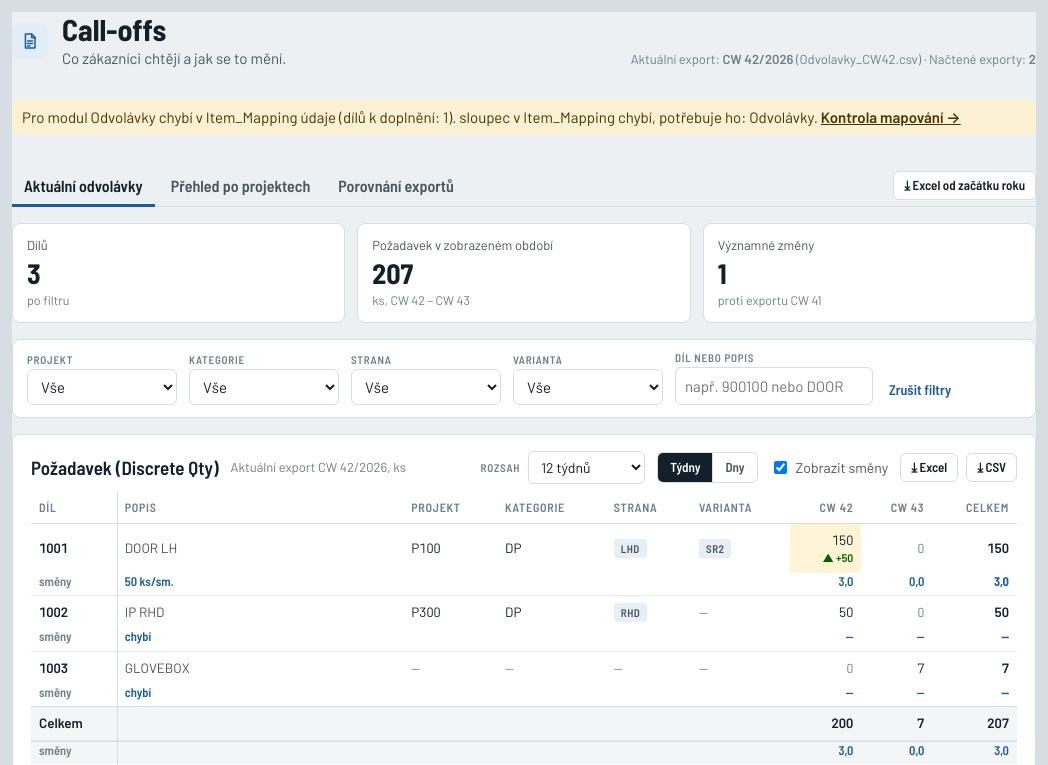
Test case: CallOffsPage › směny: řádek pod kusy (kusy ÷ výkon kategorie), bez výkonu pomlčka a upozornění; vypnutí skryje
The image size is (1048, 765).
What coordinates should you click on to do the following:
click the tab "Přehled po projektech"
I would click on:
 (240, 186)
Its box is [159,166,322,207].
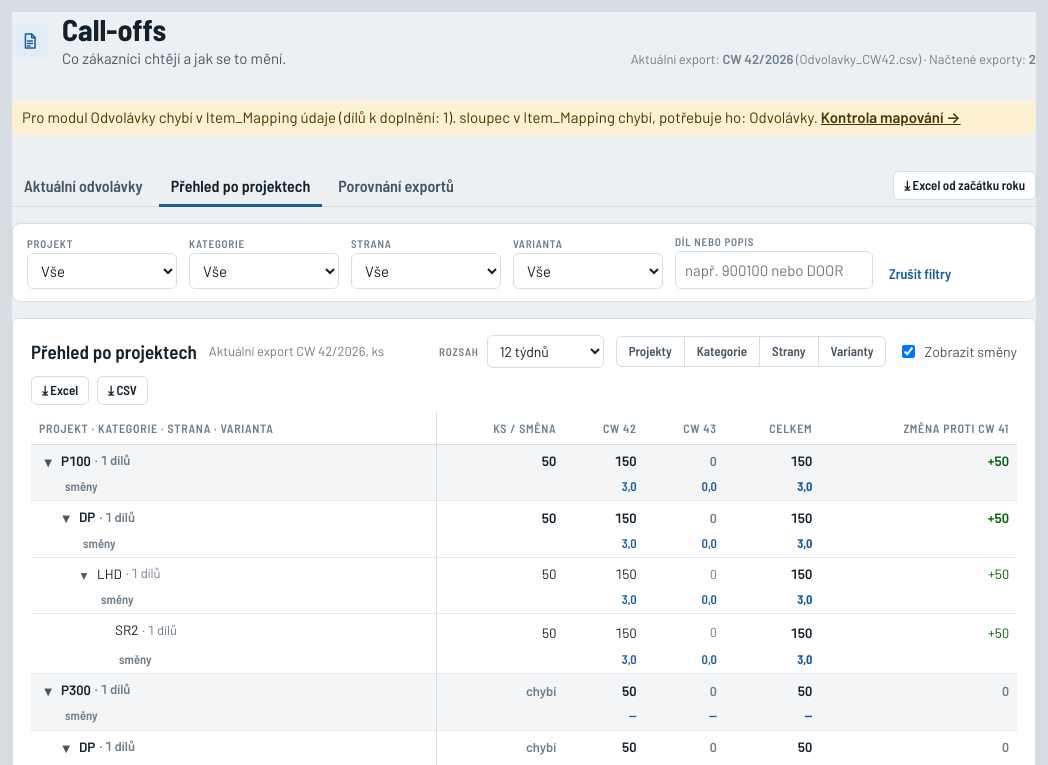
What coordinates should you click on to do the following:
click the checkbox labelled "Zobrazit směny"
I would click on:
 (909, 352)
Its box is [902,345,916,358].
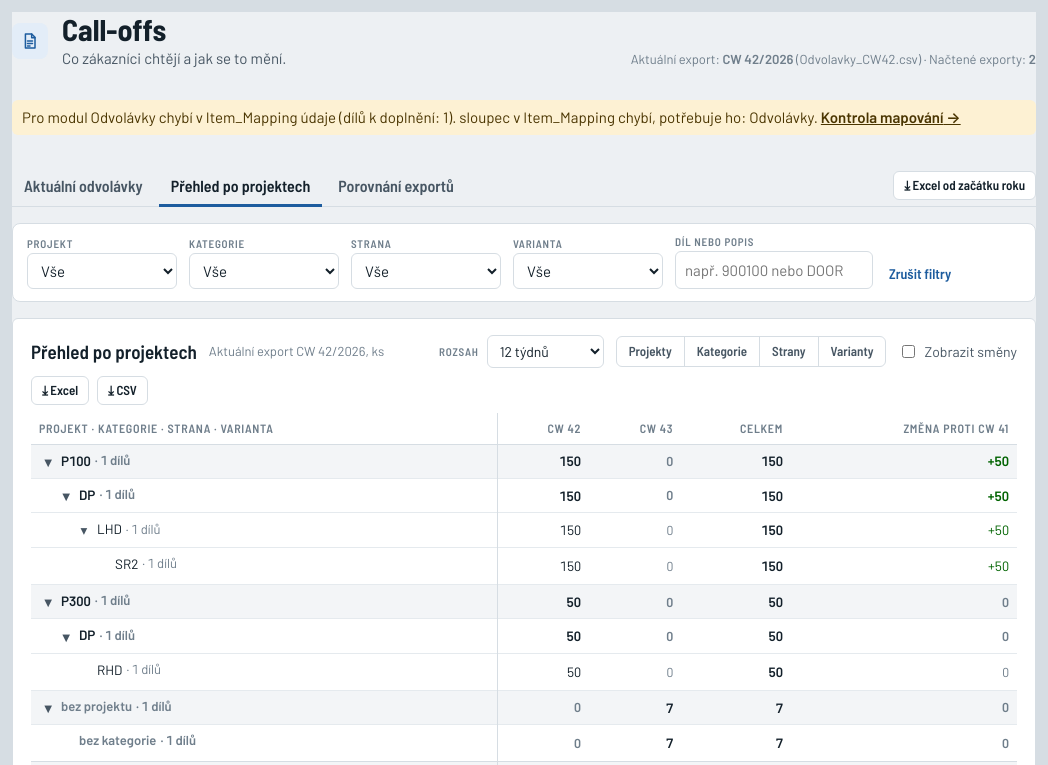
Check: no rows with class "summary-shifts" are shown
